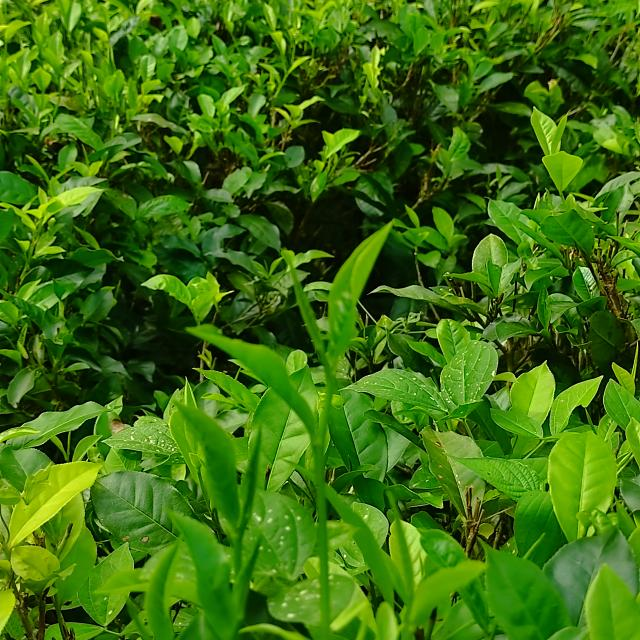unopened_leaf: (279, 244, 346, 388), (229, 413, 268, 563), (384, 485, 421, 613)
